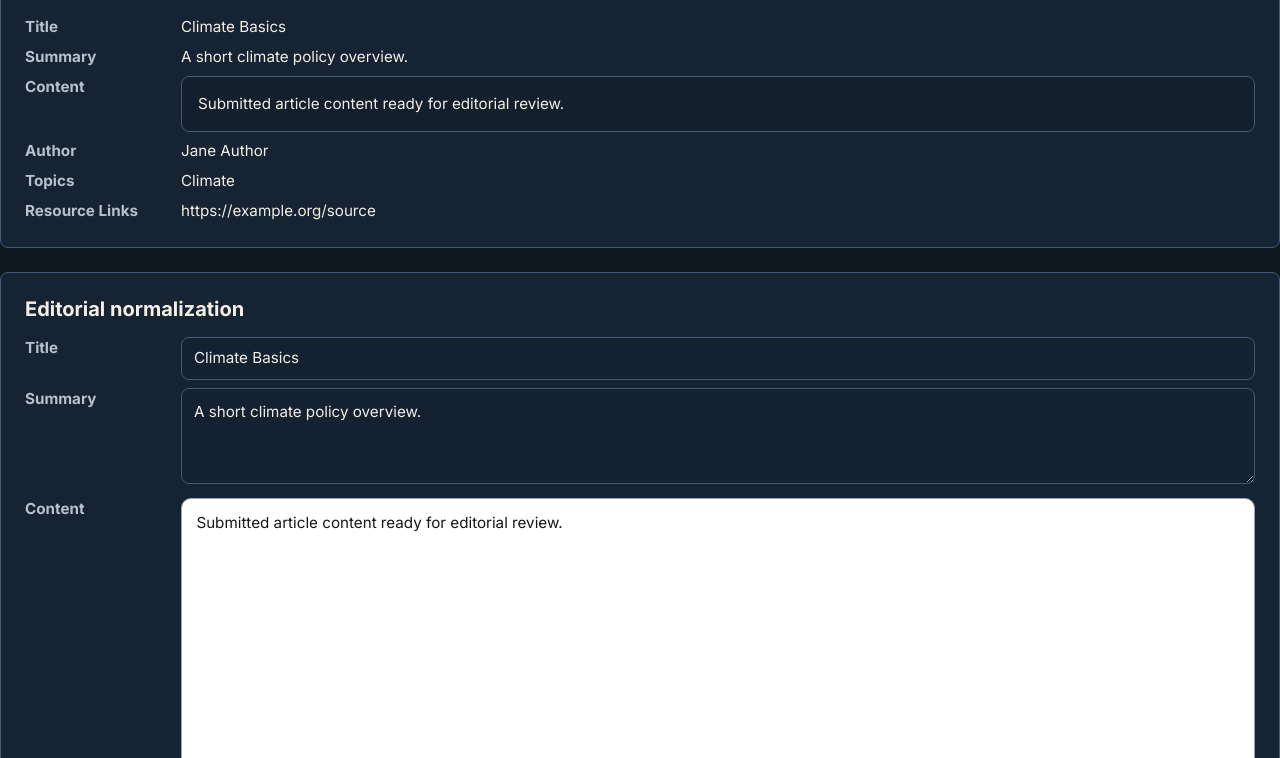
Test: SubmissionReviewPageContent › Article publish approval normalizes and renders success
(page scrolled)
Replace the text in the field labelled "Title" with "  How Local Climate Policy Works  ": (718,358) [181,336,1255,380]
(page scrolled)
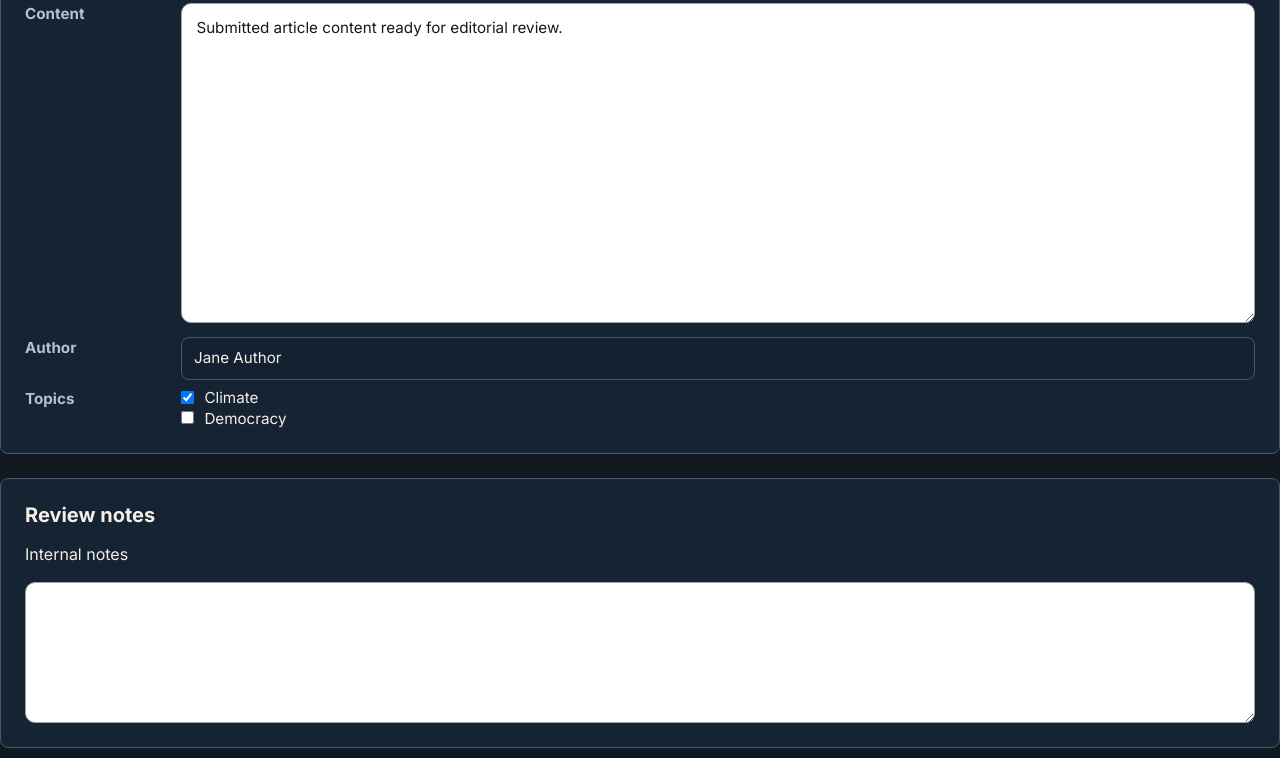
Clear the field labelled "Author": (718,358) [181,337,1255,380]
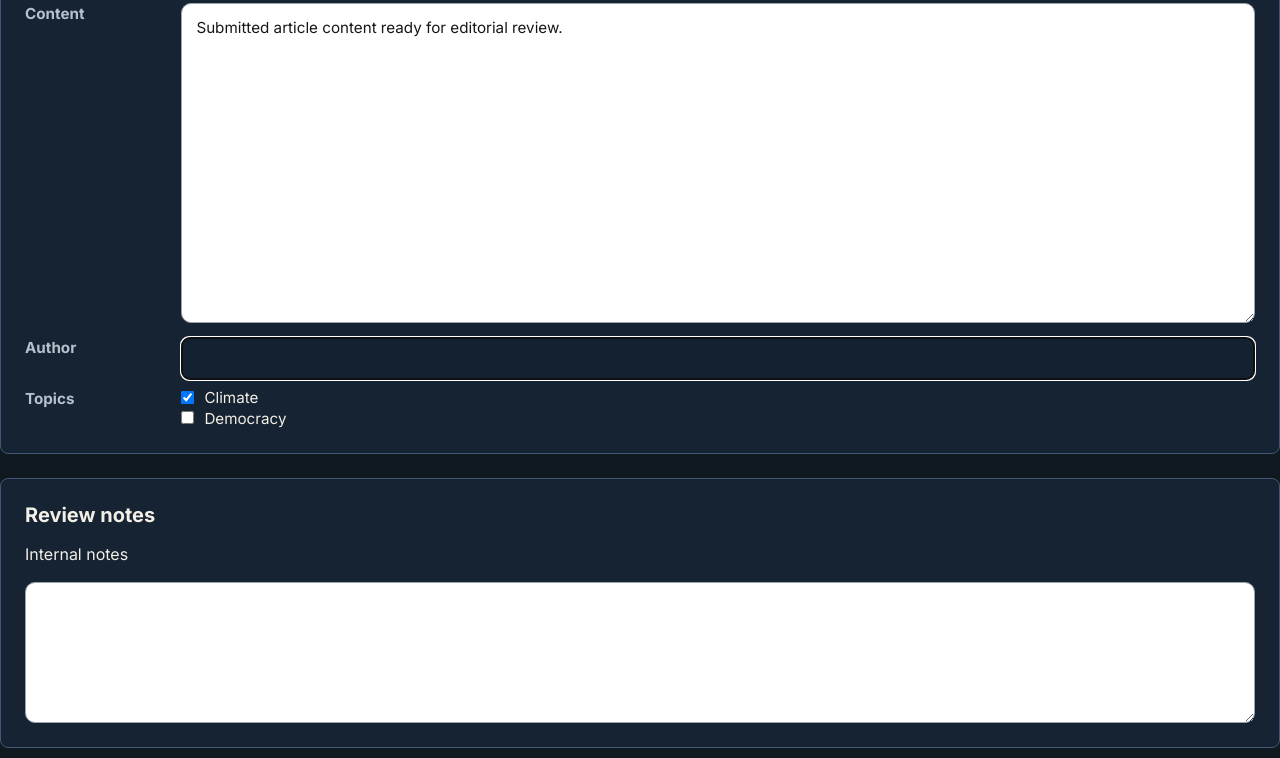
In the text box labelled "Internal notes": (640,653) [25,582,1255,723], type "Ready to publish."
(page scrolled)
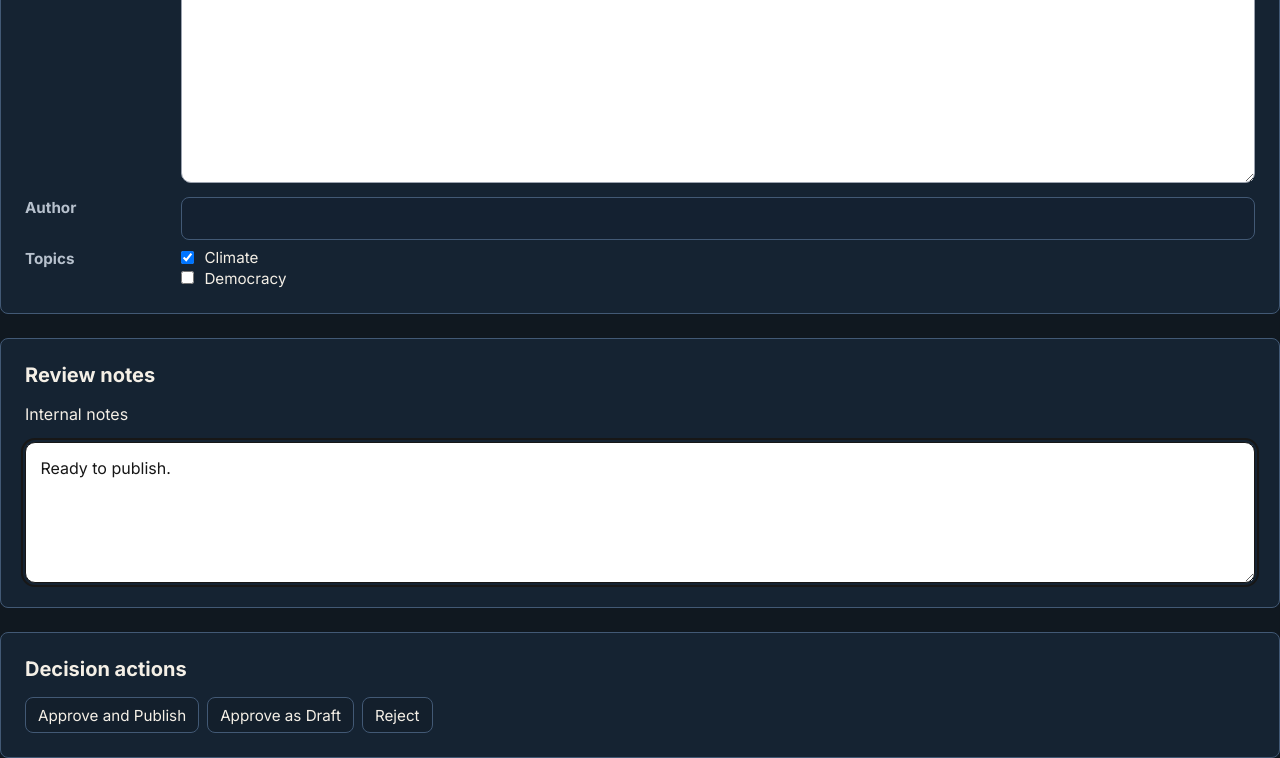
Click the button "Approve and Publish": (112,716) [25,698,199,734]
(page scrolled)
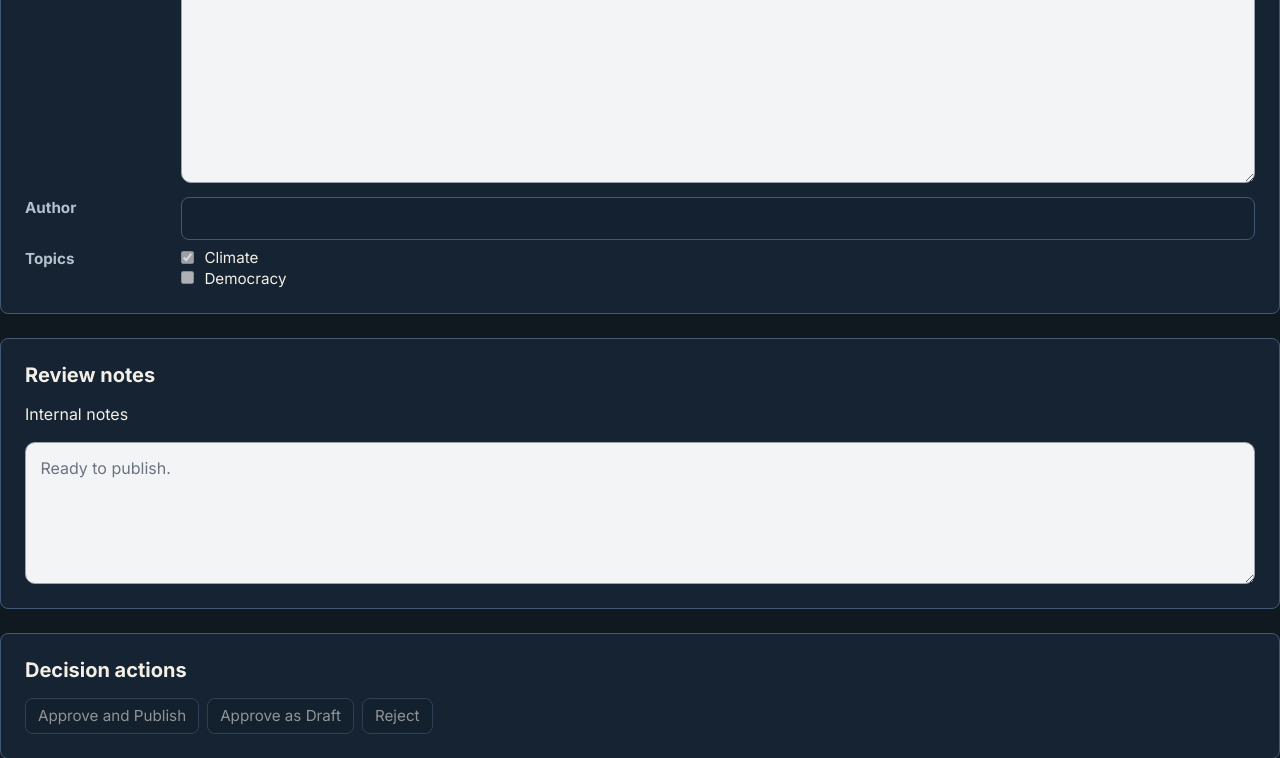
Check: the button "Approve and Publish" is disabled, box [25,698,199,734]
